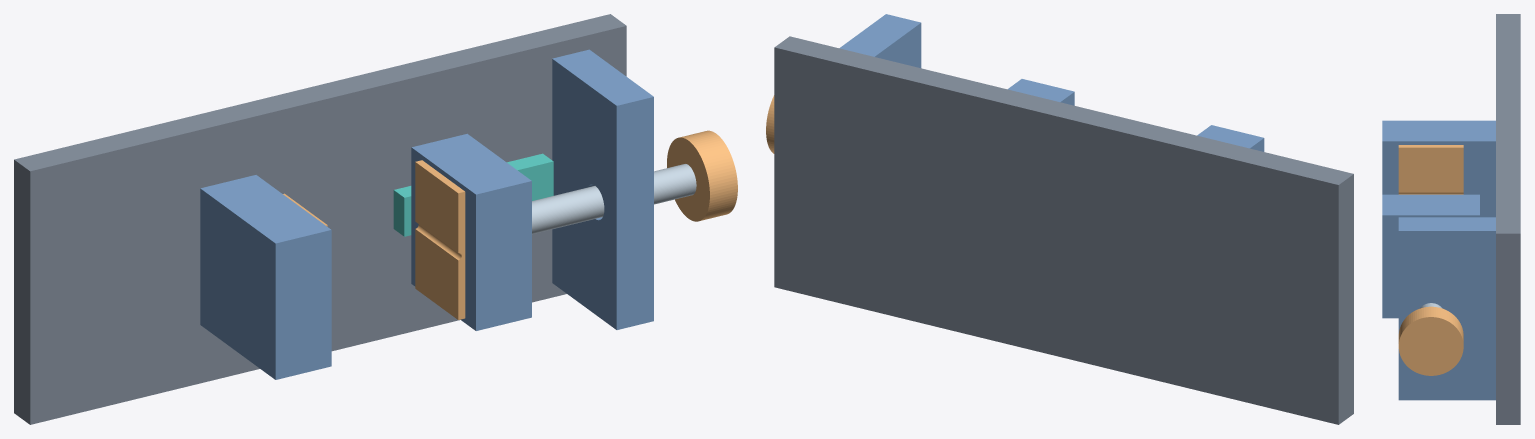
Rendered from assembly.glb.
3 views of the same model, side by side, from view 1: azimuth 30°, elevation 25°; view 2: azimuth 150°, elevation 25°; view 3: azimuth 270°, elevation 25° (orthographic). The views are drawn at different scales.
Parts seen in each view (by area): view 1: base, actuator_support, fixed_jaw, moving_jaw, moving_pad, knob, rod, rail_central; view 2: base, actuator_support, fixed_jaw, moving_jaw; view 3: actuator_support, base, fixed_jaw, moving_jaw, knob, fixed_pad.
Part boxes in pixels (box(x1,y1,x2,y2)): base: box(14, 14, 626, 424); actuator_support: box(552, 49, 653, 329); fixed_jaw: box(200, 175, 331, 379); moving_jaw: box(411, 133, 531, 330); moving_pad: box(415, 160, 465, 319); knob: box(667, 130, 737, 221); rod: box(532, 164, 696, 234); rail_central: box(393, 153, 553, 236); base: box(774, 36, 1353, 424); actuator_support: box(839, 14, 921, 68); fixed_jaw: box(1197, 125, 1264, 151); moving_jaw: box(1008, 79, 1074, 105); actuator_support: box(1398, 217, 1495, 400); base: box(1496, 14, 1520, 424); fixed_jaw: box(1382, 120, 1495, 217); moving_jaw: box(1382, 194, 1479, 318); knob: box(1398, 306, 1463, 375); fixed_pad: box(1398, 145, 1463, 194).
Size of the model in its own units: 0.1295 by 0.0488 by 0.0319.
